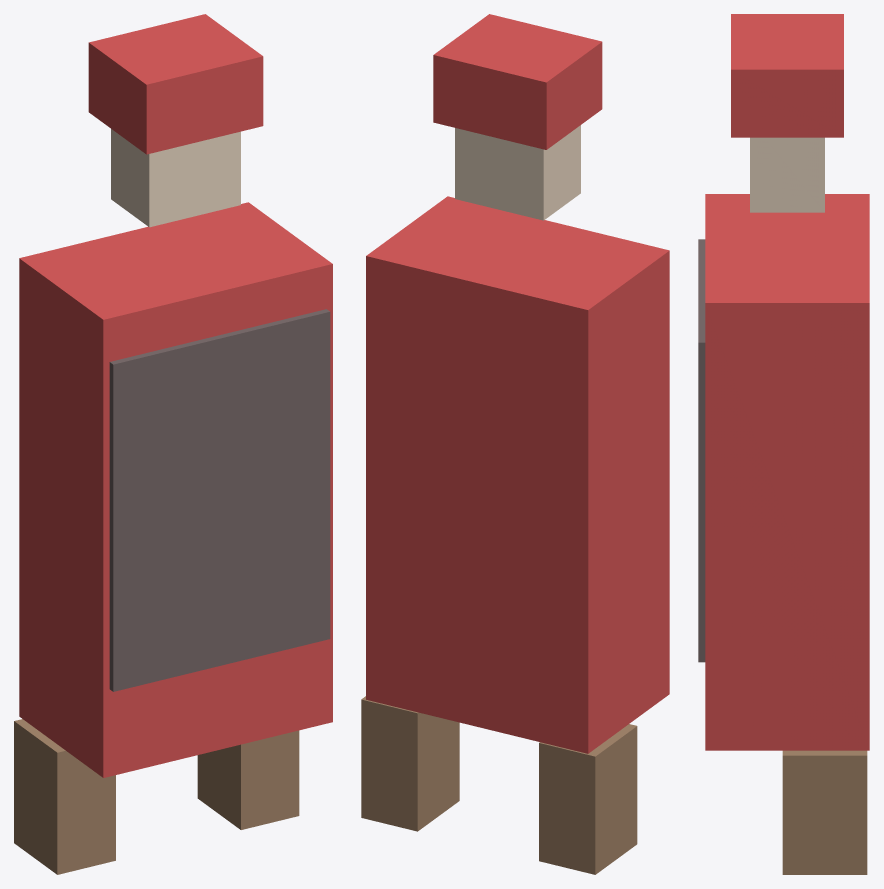
File: guard-qizilbash.glb
The picture shows the model from 3 angles, left to right: view 1: azimuth 30°, elevation 25°; view 2: azimuth 150°, elevation 25°; view 3: azimuth 270°, elevation 25°; orthographic projection. The views are drawn at different scales.
Parts seen in each view (by area): view 1: KaftanRobe, DarkCloak, TubeykaHat, BootLeft, Head, BootRight; view 2: KaftanRobe, TubeykaHat, BootLeft, BootRight, Head; view 3: KaftanRobe, TubeykaHat, BootRight, Head, DarkCloak.
Boxes of the visible parts, x1,y1,x2,y2 form: KaftanRobe: [19, 202, 332, 777]; DarkCloak: [109, 309, 330, 691]; TubeykaHat: [88, 14, 263, 154]; BootLeft: [14, 719, 115, 874]; Head: [111, 129, 240, 227]; BootRight: [197, 730, 299, 829]; KaftanRobe: [366, 196, 669, 753]; TubeykaHat: [433, 14, 602, 149]; BootLeft: [539, 724, 637, 874]; BootRight: [361, 696, 459, 831]; Head: [455, 125, 580, 220]; KaftanRobe: [705, 194, 869, 750]; TubeykaHat: [731, 14, 843, 137]; BootRight: [782, 750, 867, 874]; Head: [750, 137, 824, 212]; DarkCloak: [698, 239, 705, 662].
Size of the model in its own units: 0.58 by 1.82 by 0.365.
